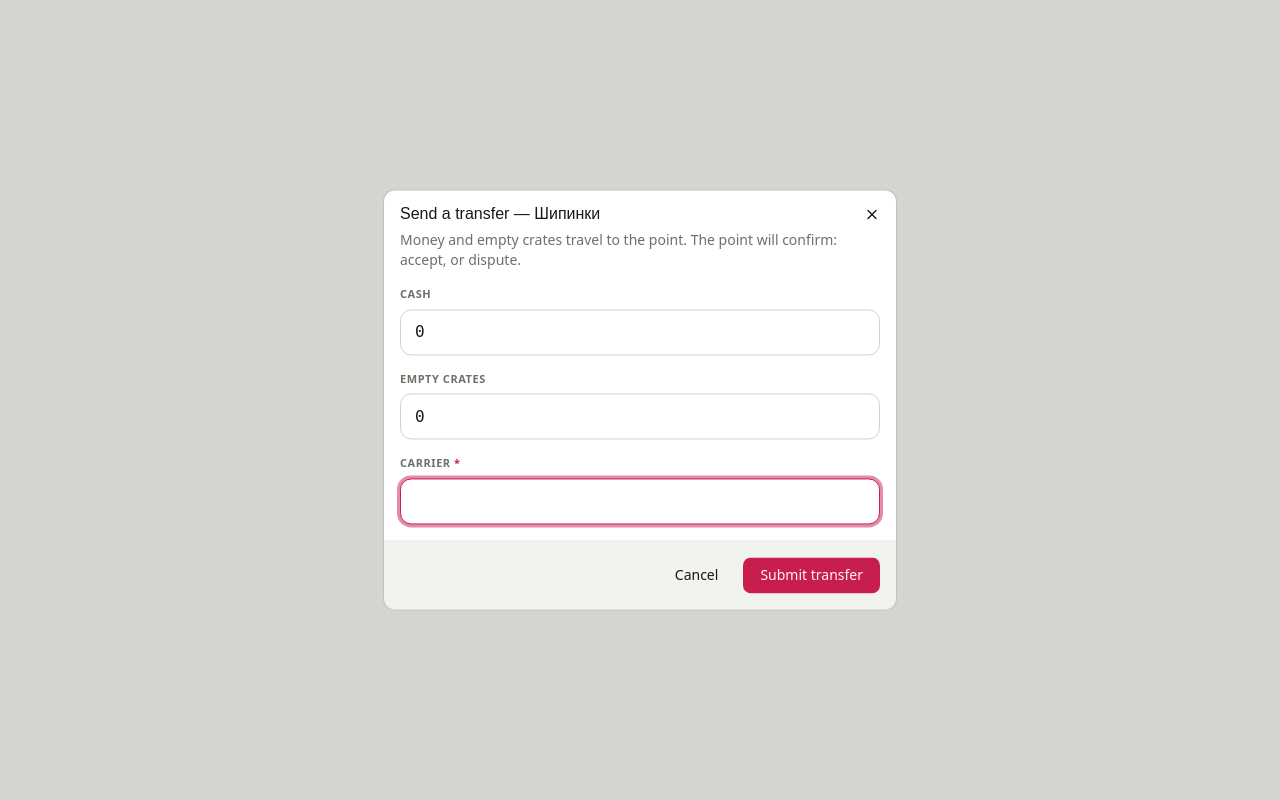
SendTransferDialog › refuses to submit with no carrier at all
Click the button "Submit transfer" at (812, 576), box [743,558,880,594]
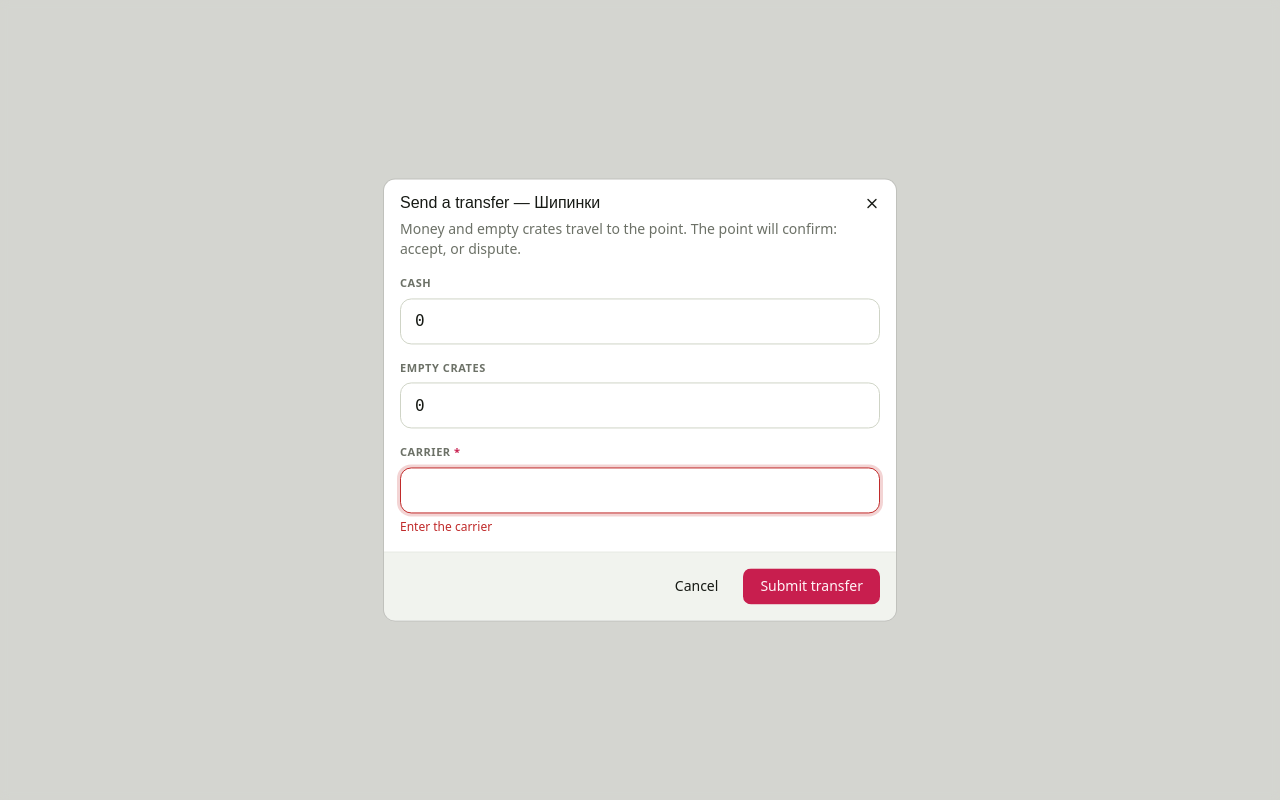
Expected: the message "Enter the carrier" is shown, [400,519,492,536]
